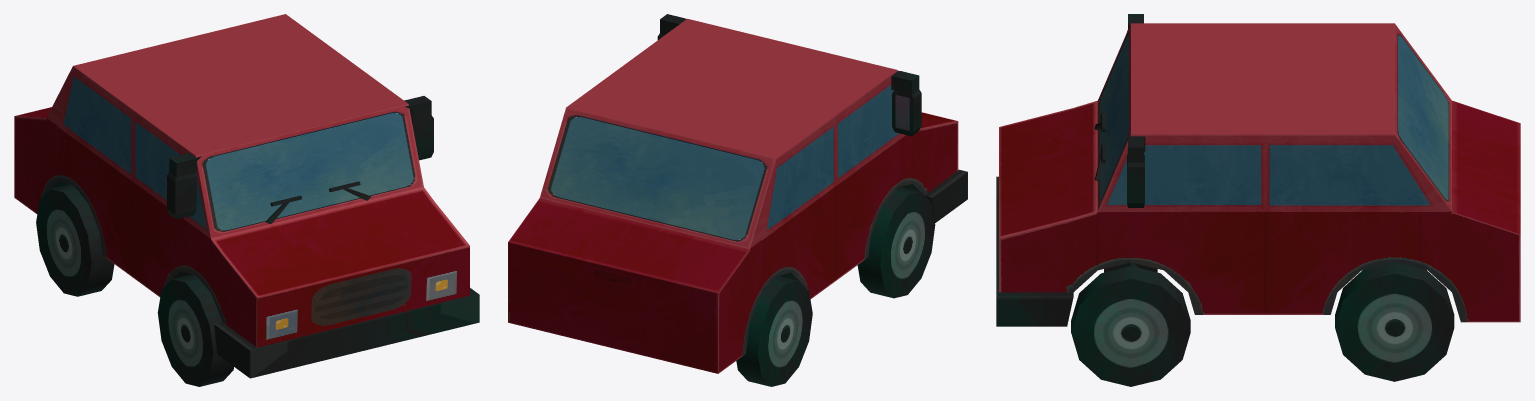
Rendered from CarKit.fbx_Car4.fbx.
The picture shows the model from 3 angles, left to right: view 1: azimuth 30°, elevation 25°; view 2: azimuth 150°, elevation 25°; view 3: azimuth 270°, elevation 25°; orthographic projection. The views are drawn at different scales.
Parts seen in each view (by area): view 1: Car.003; view 2: Car.003; view 3: Car.003.
Boxes of the visible parts, <box> form: Car.003: <box>14,14,479,386</box>; Car.003: <box>508,14,967,386</box>; Car.003: <box>996,14,1520,386</box>.
Size of the model in its own units: 221 by 186 by 362.
Materials: 1 (1 with a texture image).
